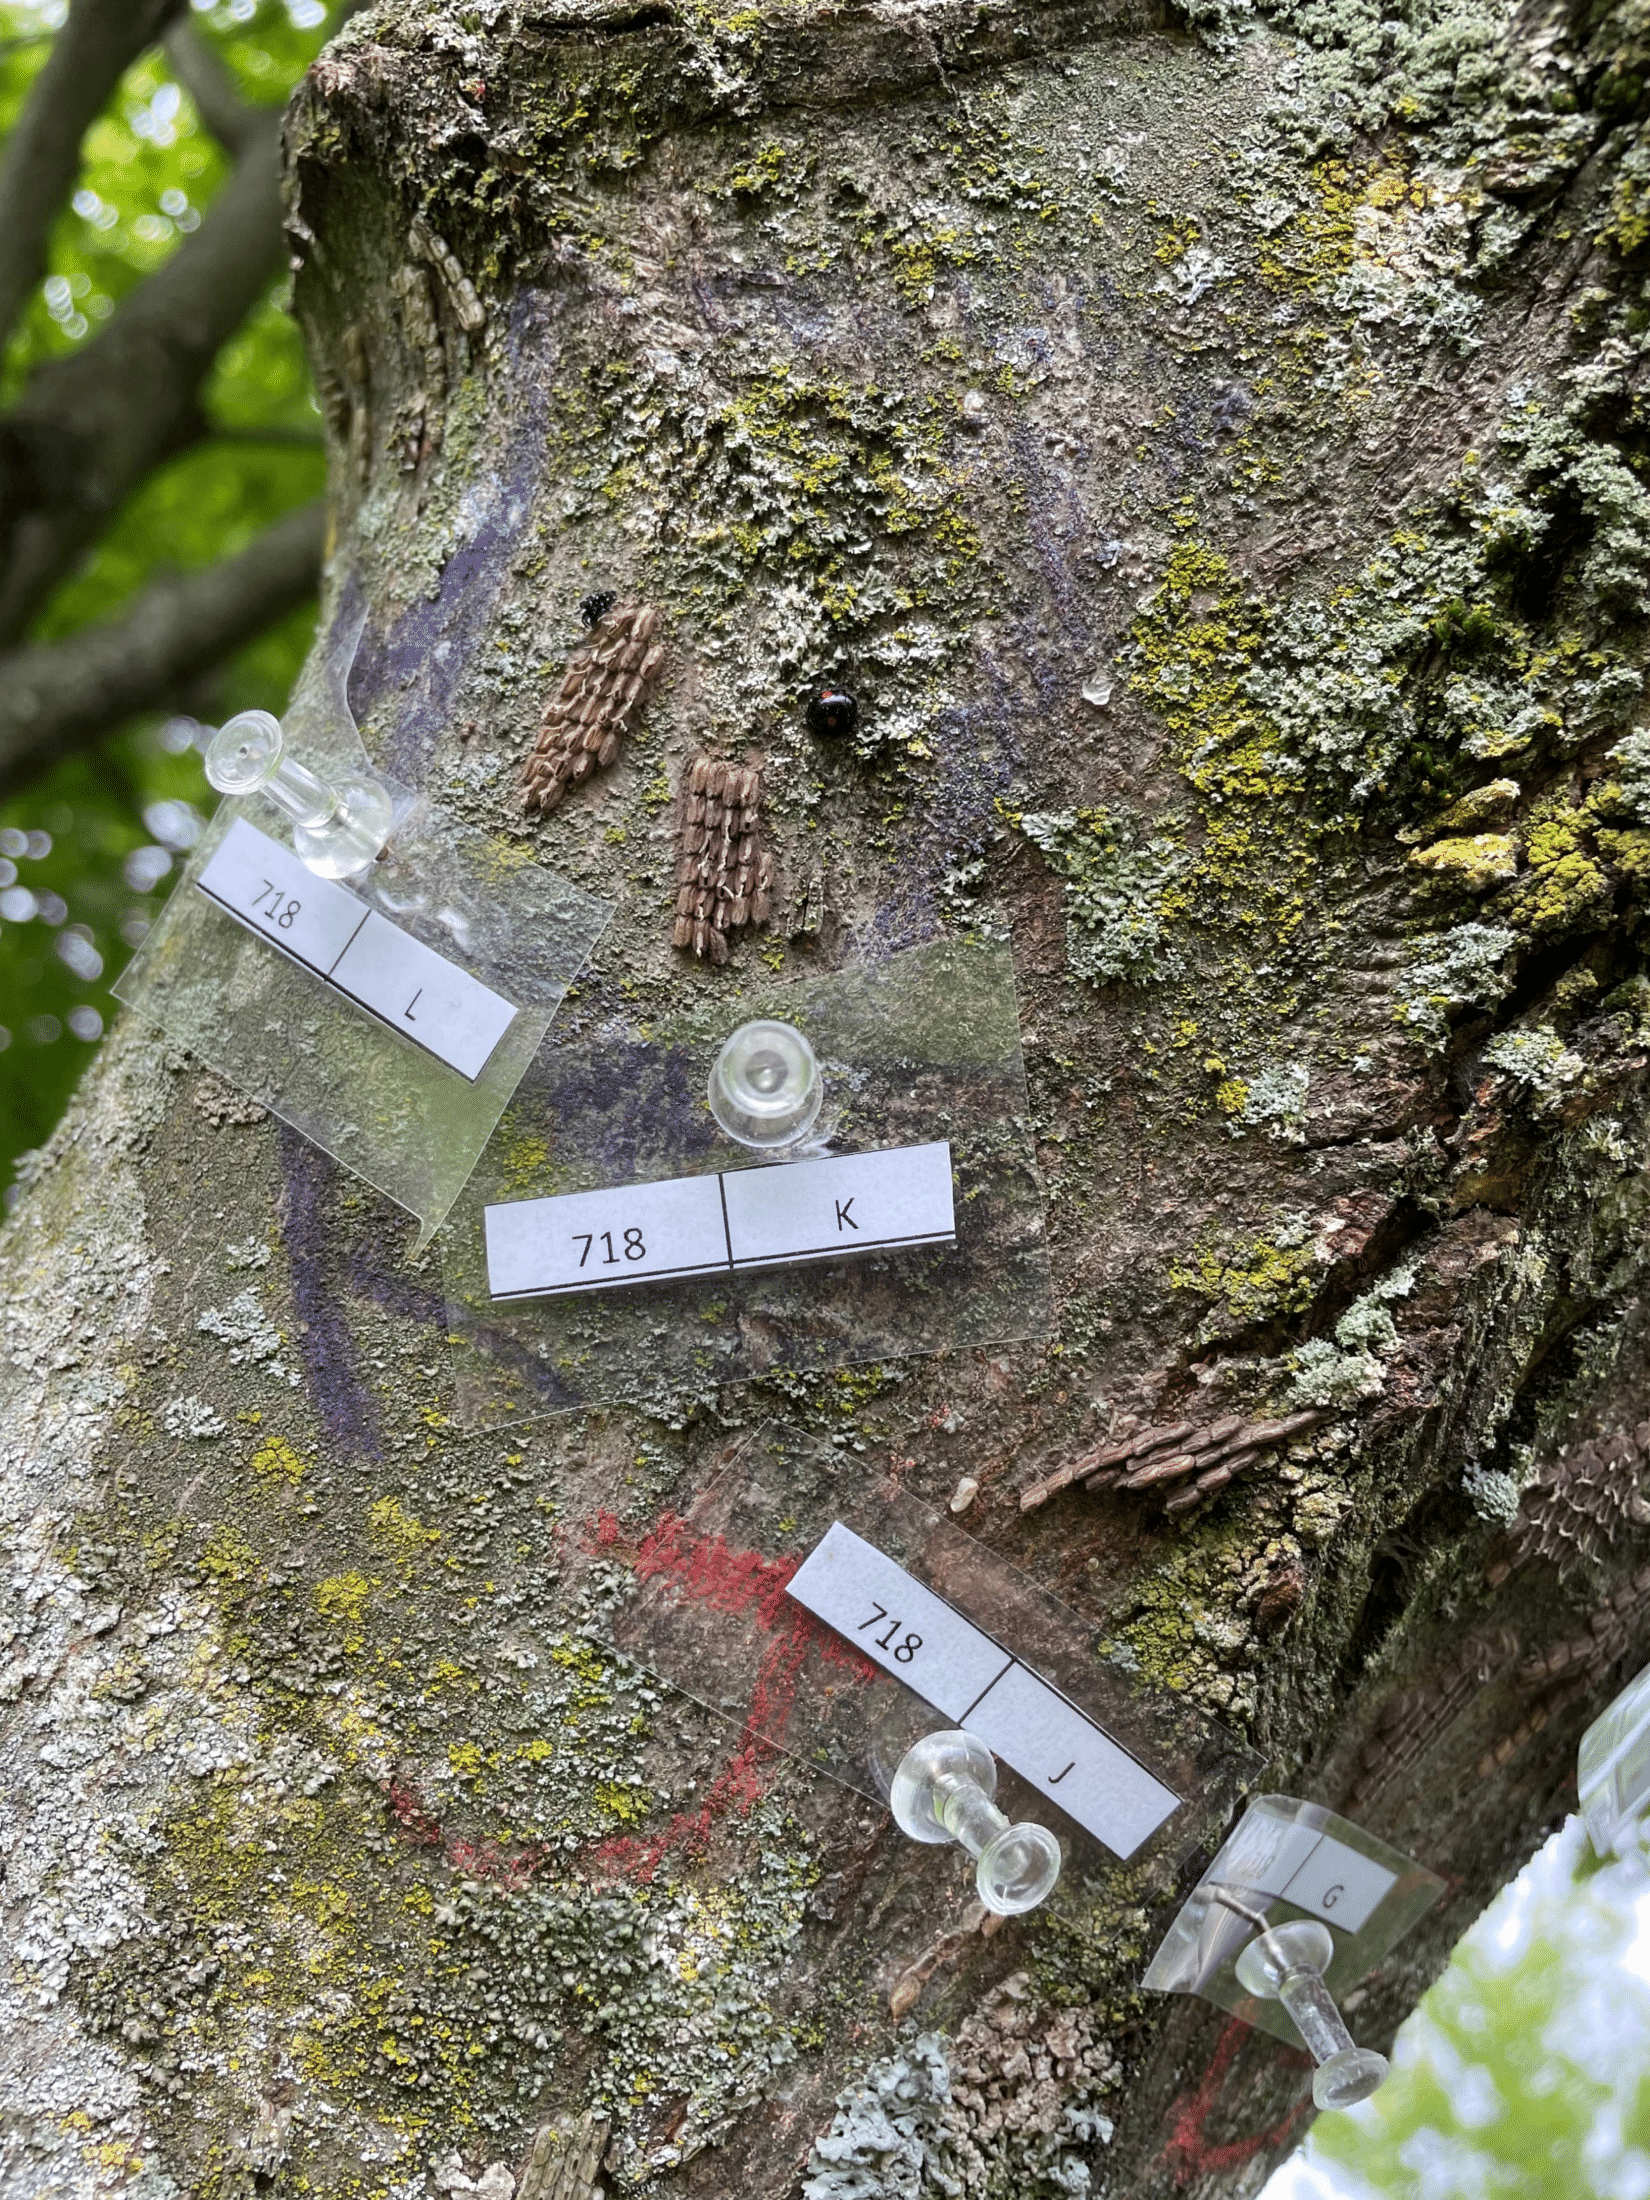egg masses: (510, 573, 688, 788), (660, 762, 797, 954)
